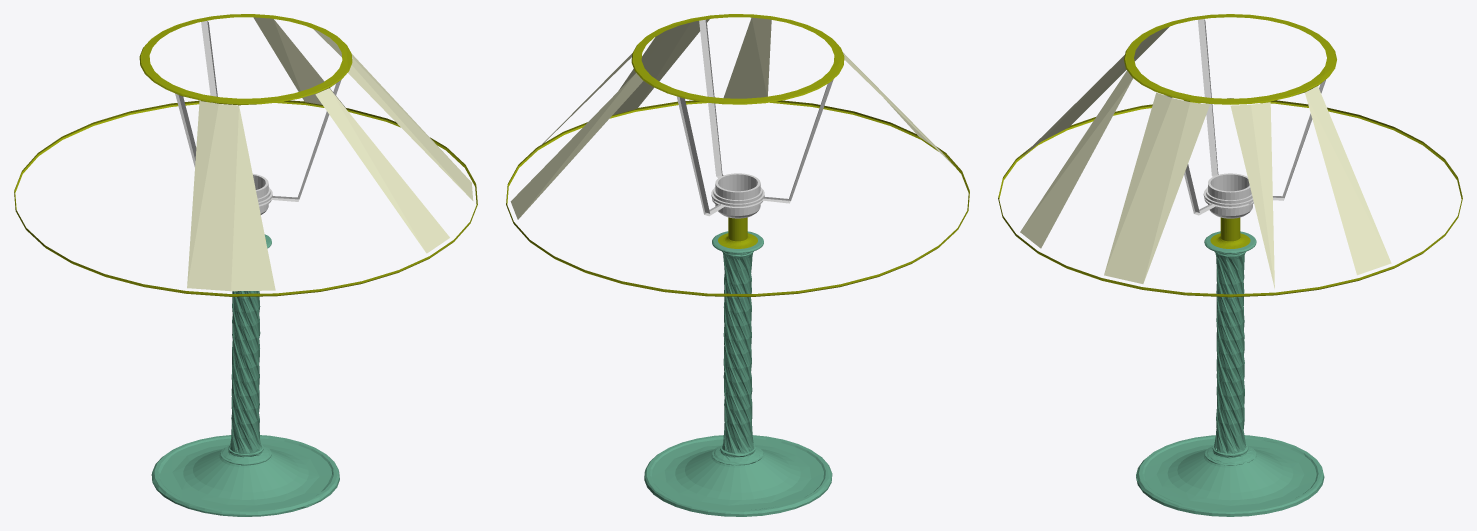
File: sh-scopia-little-lamp3.glb
3 renders of one model, left to right at view 1: azimuth 30°, elevation 25°; view 2: azimuth 150°, elevation 25°; view 3: azimuth 270°, elevation 25°, orthographic.
Parts seen in each view (by area): view 1: lamp2.001_Circle.005_yellow_multilamps.jpg, Circle_Circle.004_Material, lamp2.001_Circle.005_chrome, lamp2.001_Circle.005_whitesop; view 2: Circle_Circle.004_Material, lamp2.001_Circle.005_yellow_multilamps.jpg, lamp2.001_Circle.005_chrome, lamp2.001_Circle.005_whitesop, Circle_Circle.004_chrome; view 3: lamp2.001_Circle.005_yellow_multilamps.jpg, Circle_Circle.004_Material, lamp2.001_Circle.005_chrome, lamp2.001_Circle.005_whitesop, Circle_Circle.004_chrome.
Part boxes in pixels (x1=…): lamp2.001_Circle.005_yellow_multilamps.jpg: x1=187, y1=17, x2=473, y2=291; Circle_Circle.004_Material: x1=151, y1=234, x2=339, y2=516; lamp2.001_Circle.005_chrome: x1=14, y1=14, x2=477, y2=296; lamp2.001_Circle.005_whitesop: x1=175, y1=21, x2=341, y2=214; Circle_Circle.004_Material: x1=644, y1=231, x2=832, y2=516; lamp2.001_Circle.005_yellow_multilamps.jpg: x1=510, y1=17, x2=955, y2=219; lamp2.001_Circle.005_chrome: x1=506, y1=14, x2=969, y2=296; lamp2.001_Circle.005_whitesop: x1=676, y1=19, x2=833, y2=218; Circle_Circle.004_chrome: x1=718, y1=217, x2=757, y2=248; lamp2.001_Circle.005_yellow_multilamps.jpg: x1=1020, y1=26, x2=1391, y2=288; Circle_Circle.004_Material: x1=1136, y1=231, x2=1324, y2=516; lamp2.001_Circle.005_chrome: x1=998, y1=14, x2=1462, y2=297; lamp2.001_Circle.005_whitesop: x1=1164, y1=19, x2=1325, y2=218; Circle_Circle.004_chrome: x1=1210, y1=217, x2=1250, y2=248.
Size of what is drawn, in the model's own units: 1 by 1 by 1.
